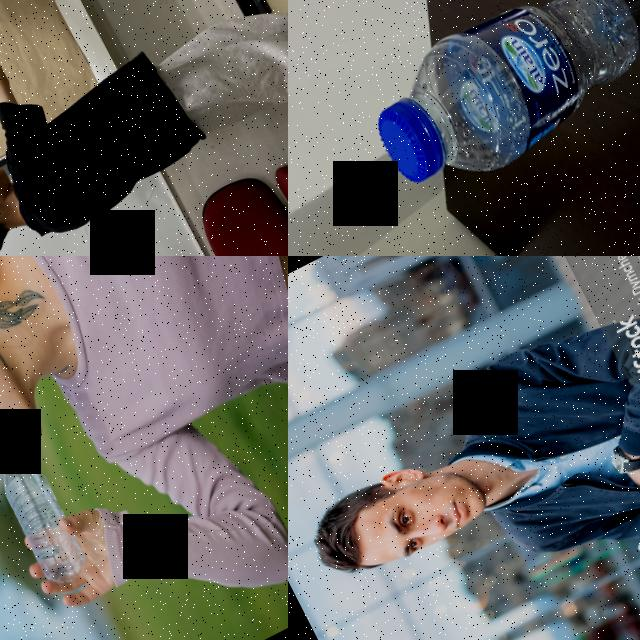bottle: (338, 0, 640, 223), (0, 411, 103, 600)
